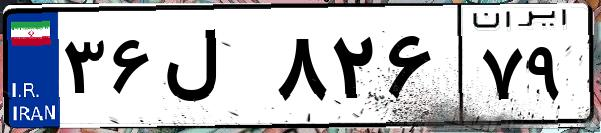2: (330, 28, 385, 110)
3: (57, 26, 110, 100)
6: (385, 28, 445, 110), (110, 28, 158, 98)
7: (475, 38, 525, 113)
8: (270, 28, 330, 110)
9: (525, 38, 570, 115)
ل: (158, 20, 270, 120)
